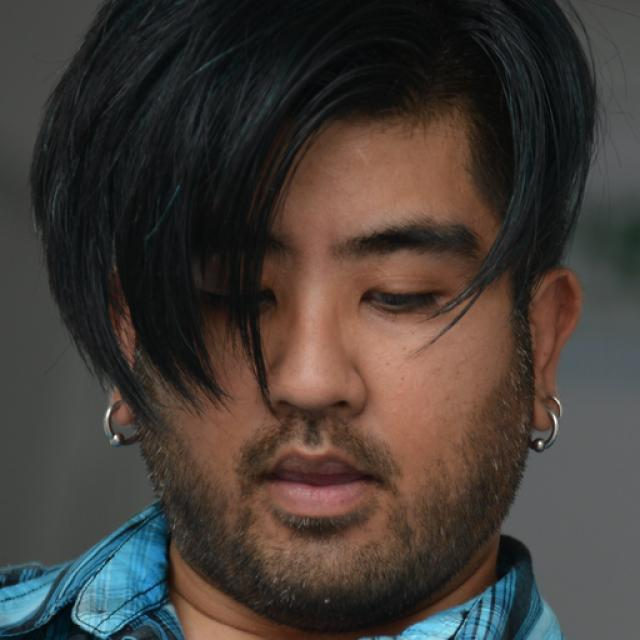neutral: (150, 83, 540, 622)
